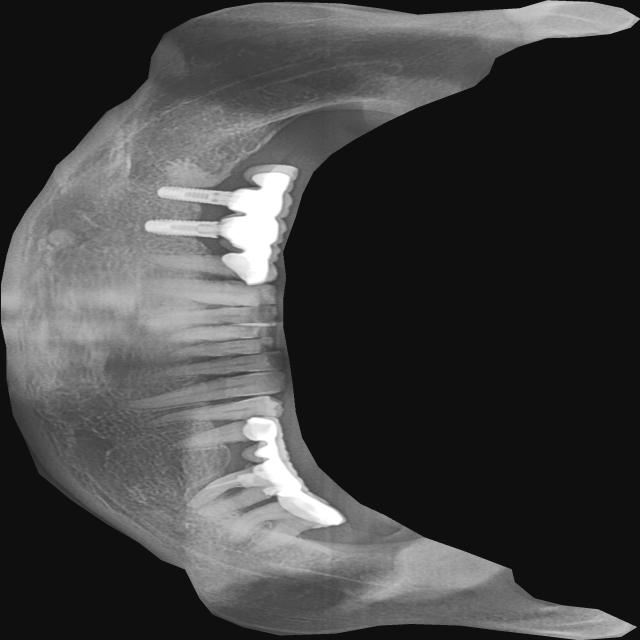mandibula: (0, 0, 639, 640)
